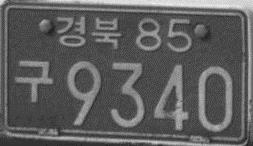0: (197, 64, 233, 131)
3: (109, 60, 144, 127)
4: (152, 63, 189, 132)
5: (166, 17, 193, 53)
8: (135, 17, 162, 52)
9: (65, 59, 103, 127)
경북_O: (54, 14, 123, 49)
구: (13, 59, 54, 103)
